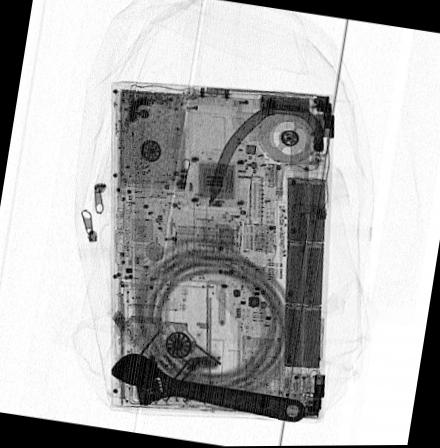Wrench: (107, 352, 309, 424)
